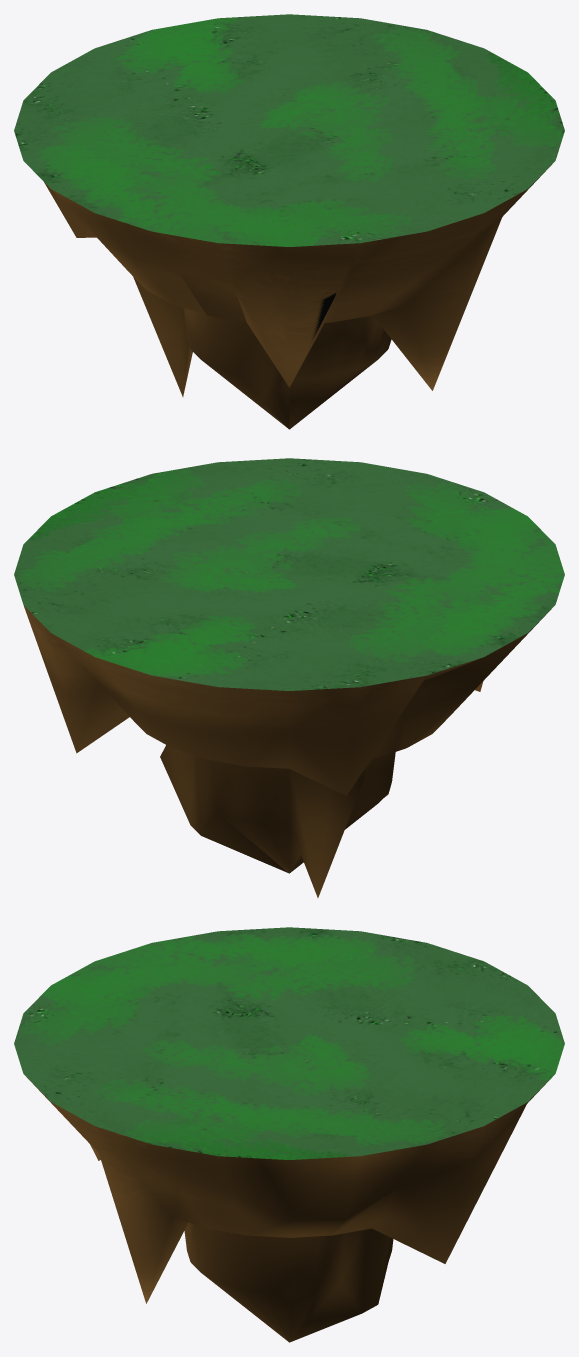
Rendered from Filed.fbx.
3 views of the same model, one above another, from view 1: azimuth 30°, elevation 25°; view 2: azimuth 150°, elevation 25°; view 3: azimuth 270°, elevation 25° (orthographic).
Visible parts, largest first — view 1: Cone001; view 2: Cone001; view 3: Cone001.
Boxes of the visible parts, box(x1,y1,x2,y2) form: Cone001: box(14, 14, 564, 429); Cone001: box(14, 458, 564, 897); Cone001: box(14, 927, 564, 1342).
Bounding box in the file's own units: 106 × 63.76 × 106.
